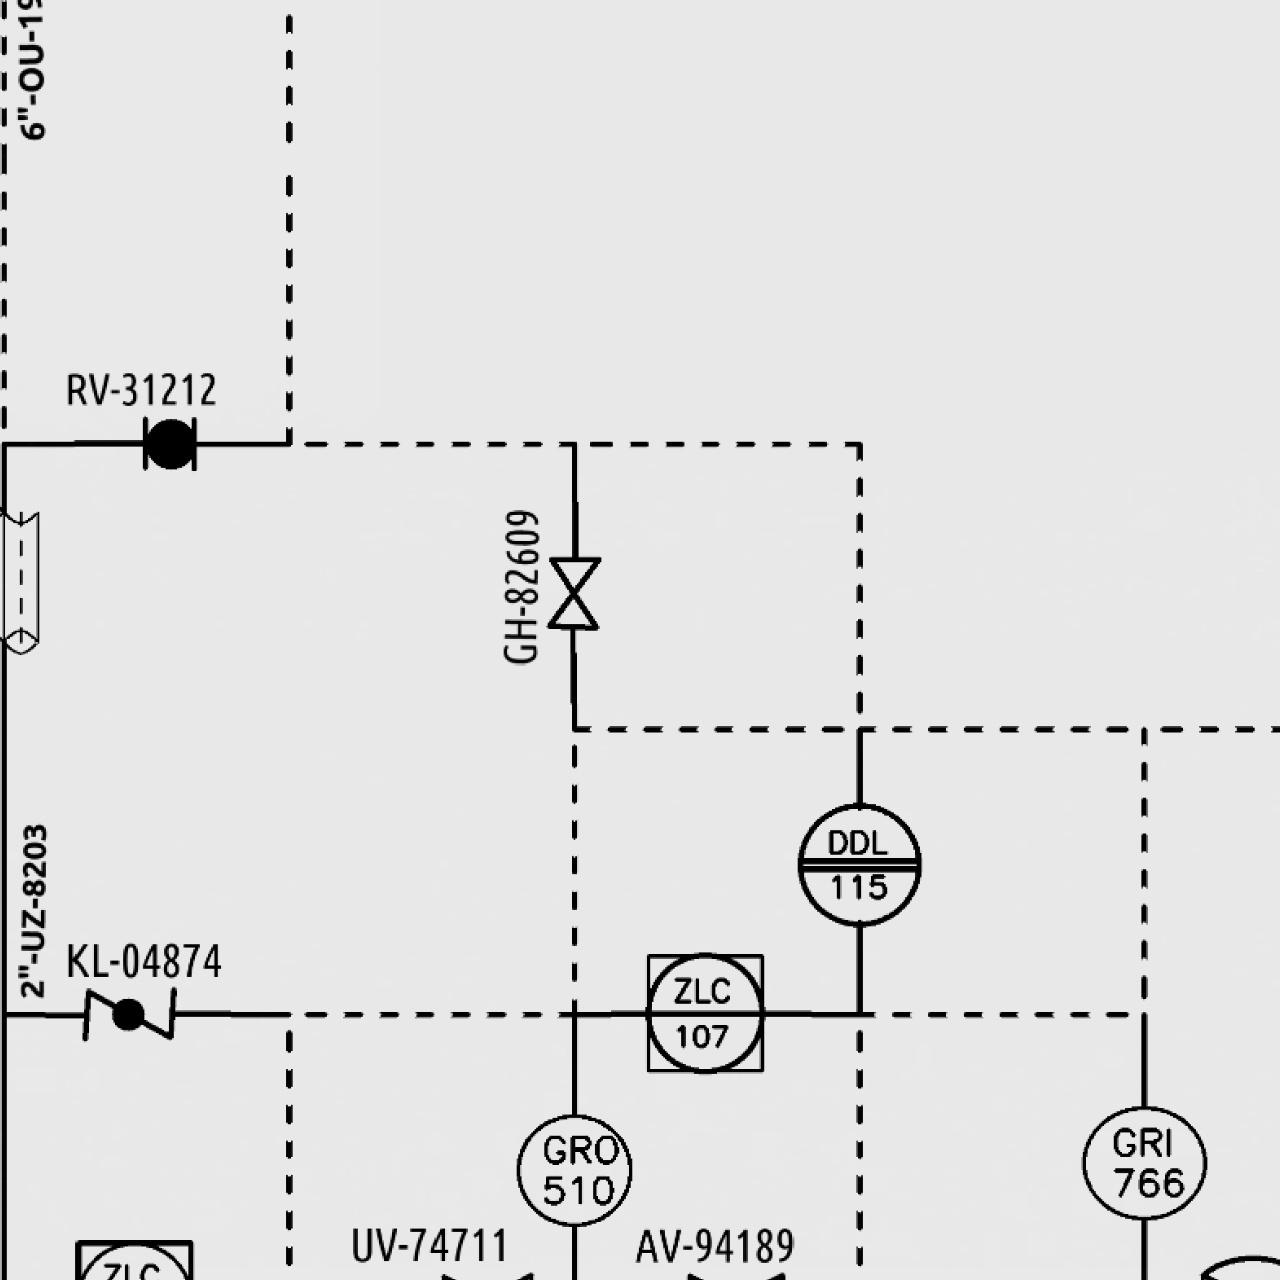Control-Panel: (792, 798, 924, 930)
